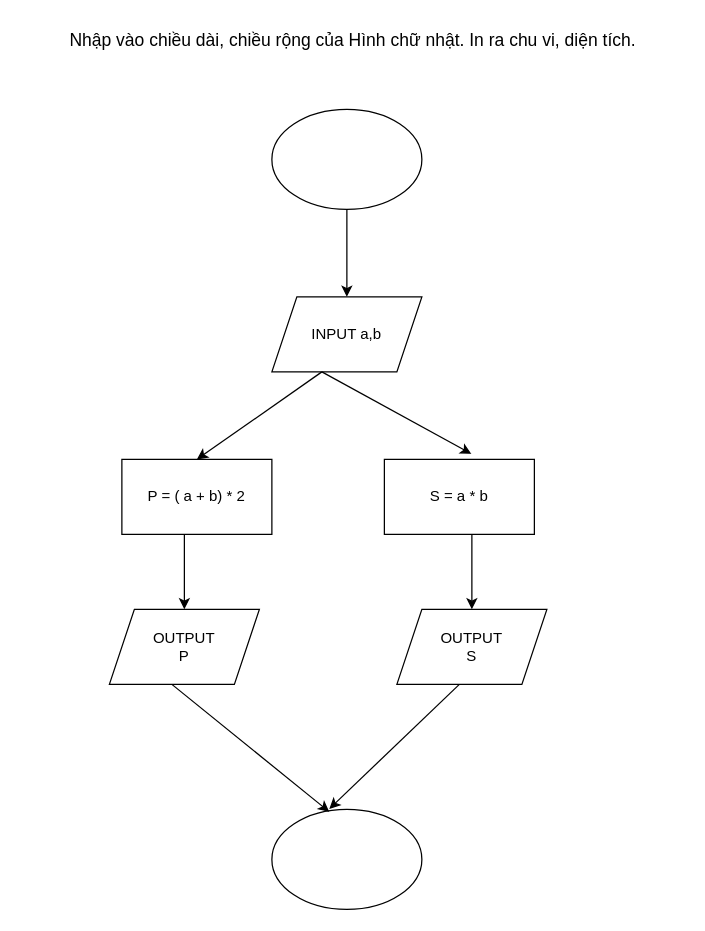
Some shapes in this 705 by 931 pixel diagram are drawn without their labels. The shapes that lost their labels are listed below. From the top down, each one's centre as x and y in pixels, then its label:
At point (346, 158): "START".
At point (346, 858): "END".
